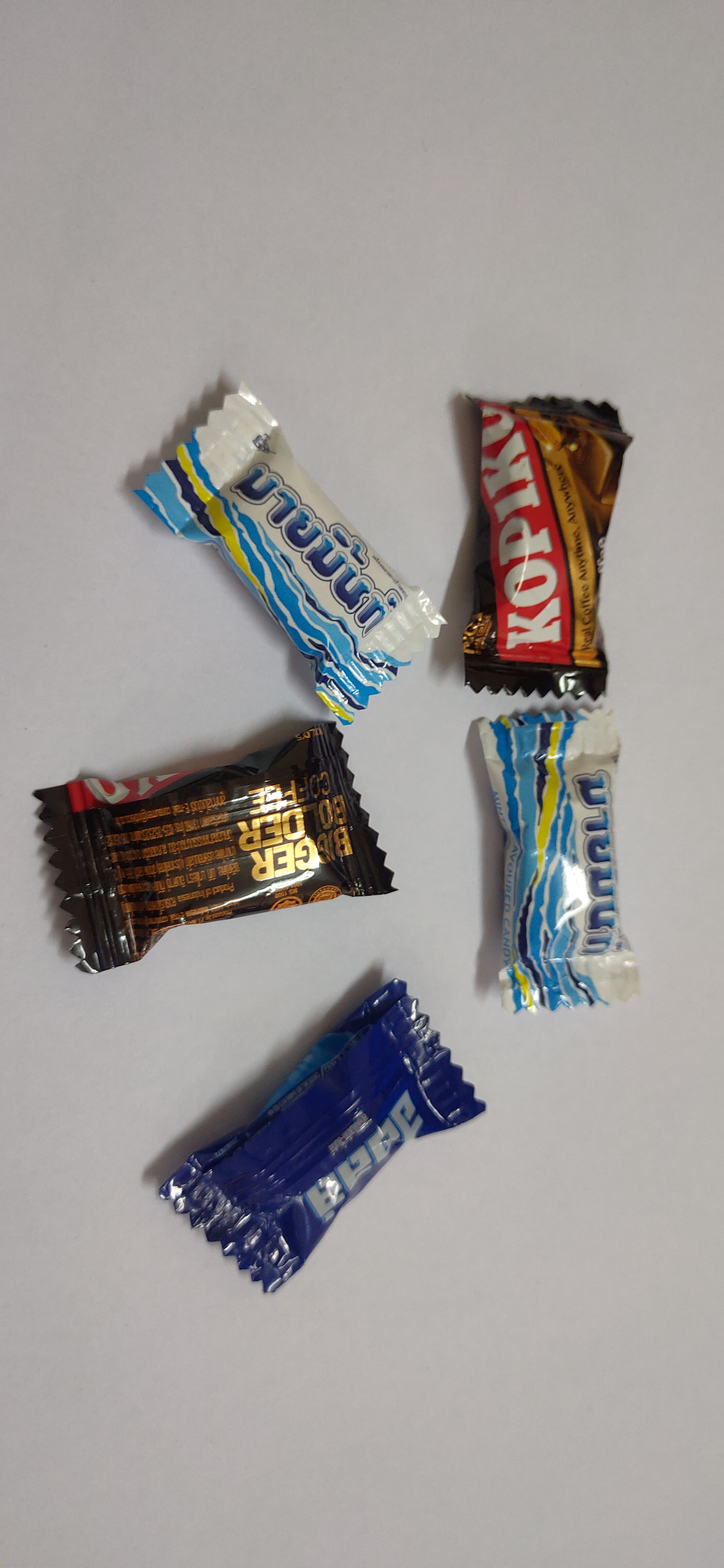plastic: (76, 307, 477, 748), (140, 935, 529, 1346), (18, 696, 425, 1012), (439, 699, 662, 1042), (444, 361, 670, 696)
